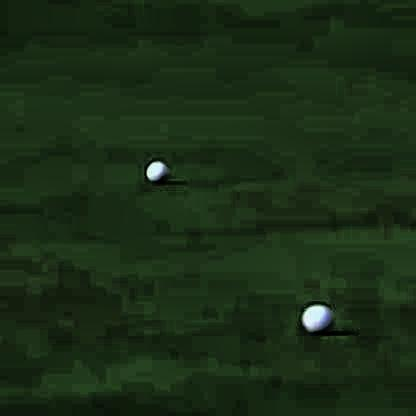golfball: (298, 300, 329, 330)
